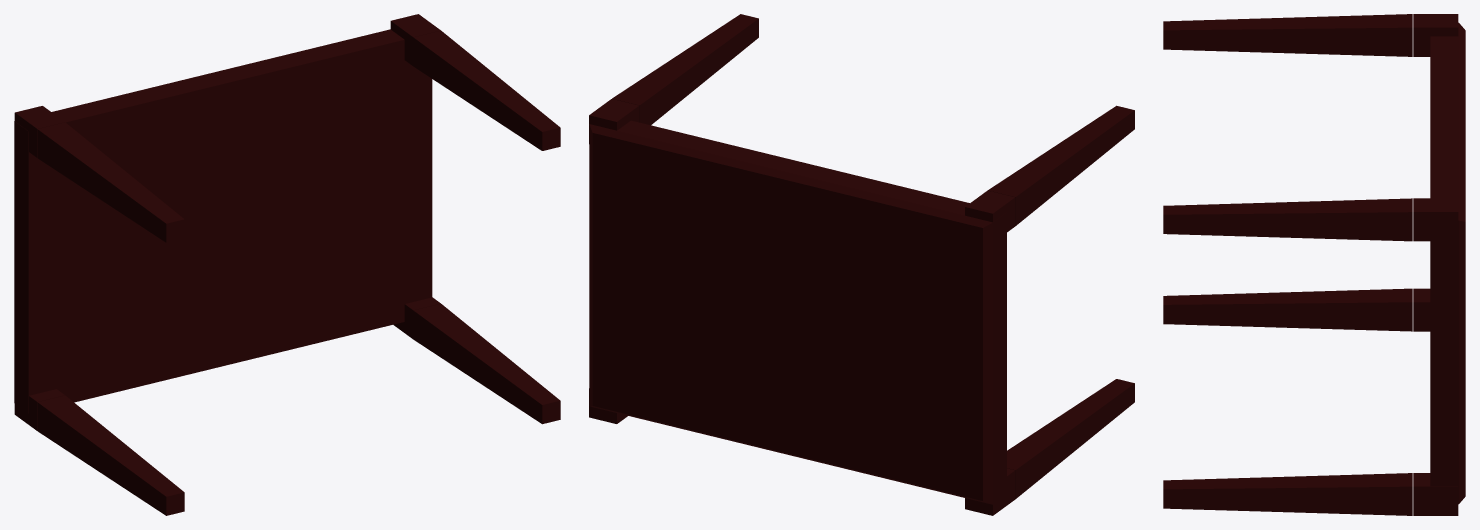
File: Small table.FBX
3 views of the same model, side by side, from view 1: azimuth 30°, elevation 25°; view 2: azimuth 150°, elevation 25°; view 3: azimuth 270°, elevation 25° (orthographic).
Parts seen in each view (by area): view 1: Small table01, Small table02; view 2: Small table01, Small table02; view 3: Small table02, Small table01.
Boxes of the visible parts, x1,y1,x2,y2 form: Small table01: (14,29,432,413); Small table02: (14,14,560,515); Small table01: (589,120,1006,504); Small table02: (589,14,1134,515); Small table02: (1163,14,1458,515); Small table01: (1430,22,1465,504).
Bounding box in the file's own units: 47.52 × 33.97 × 30.63.
